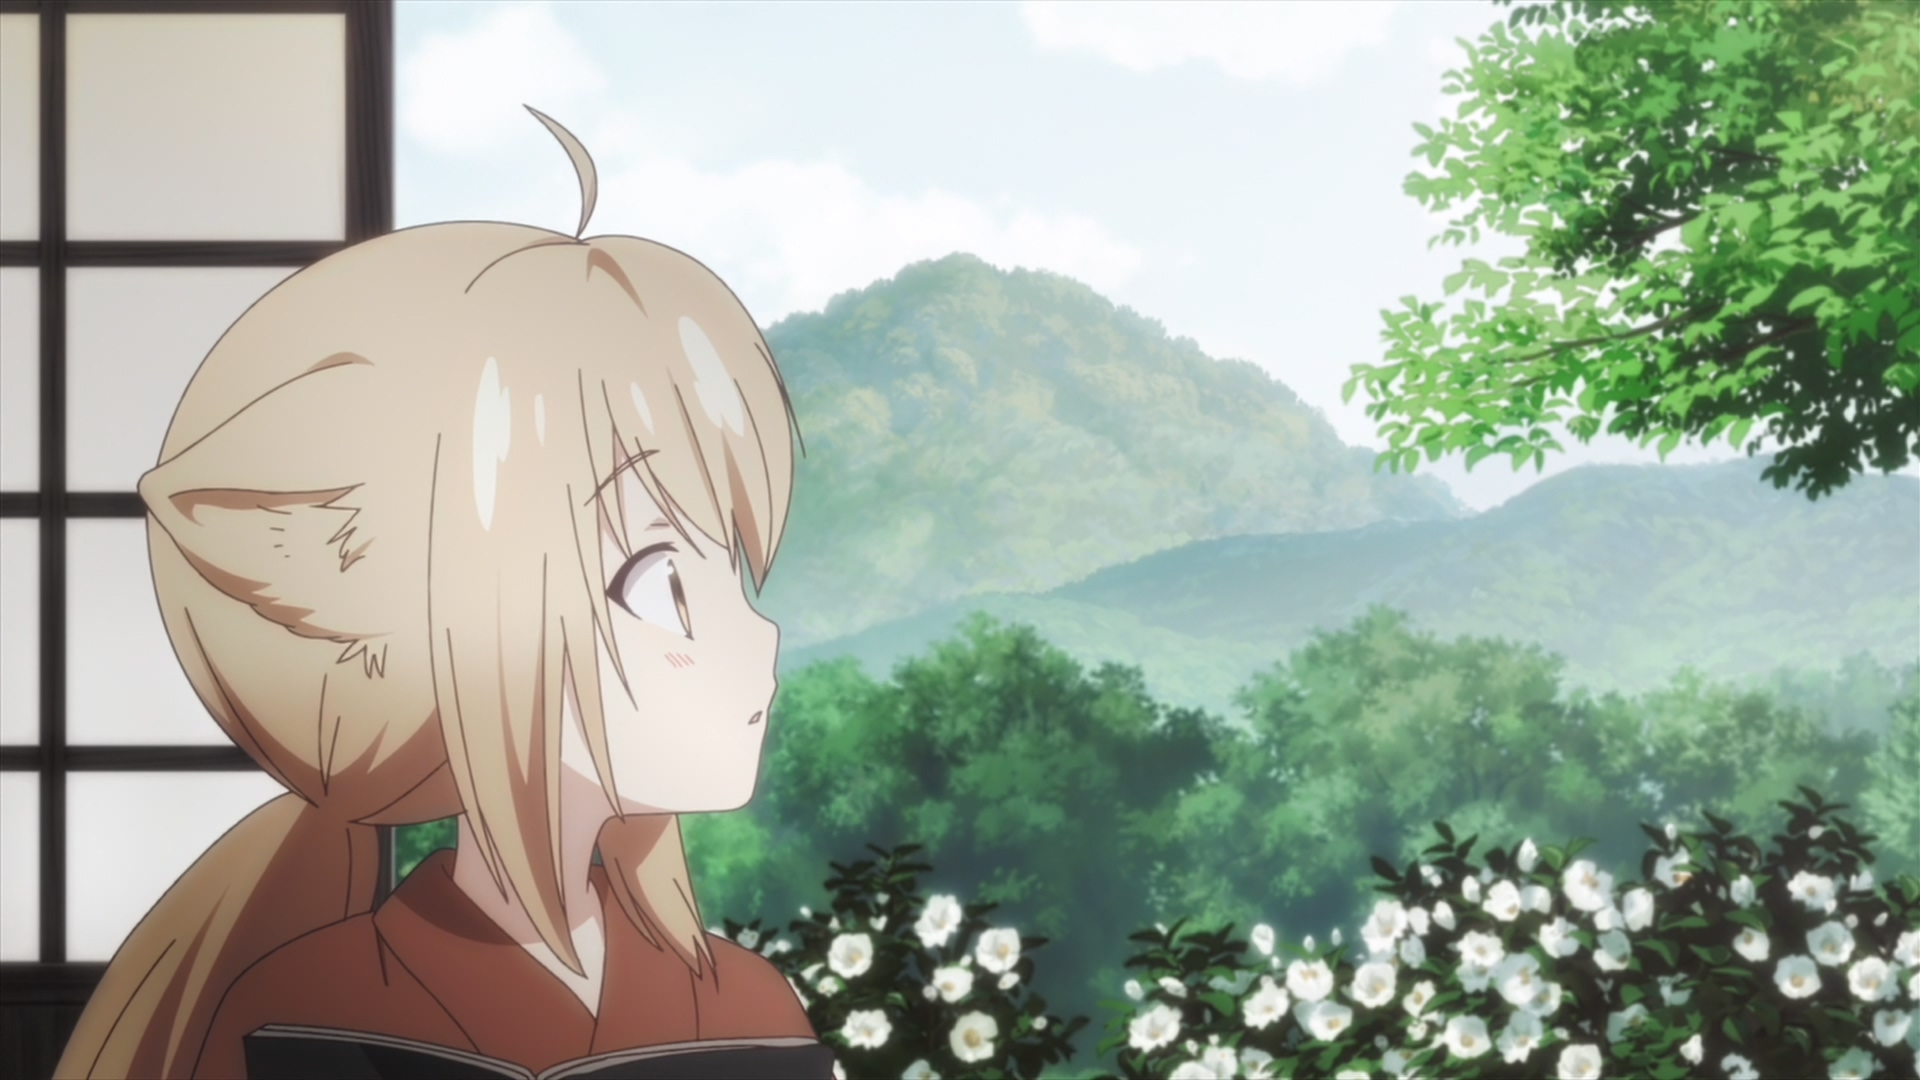柚: (51, 104, 816, 1080)
